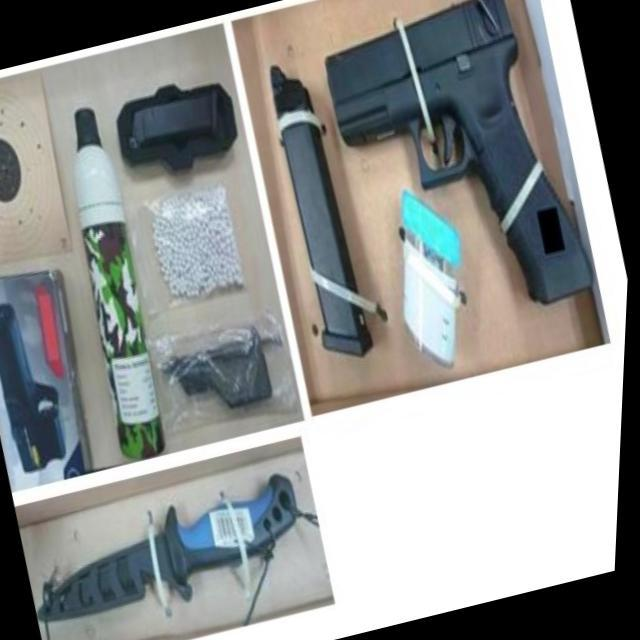weapon: (305, 0, 608, 345), (21, 468, 320, 640), (252, 48, 406, 366)
